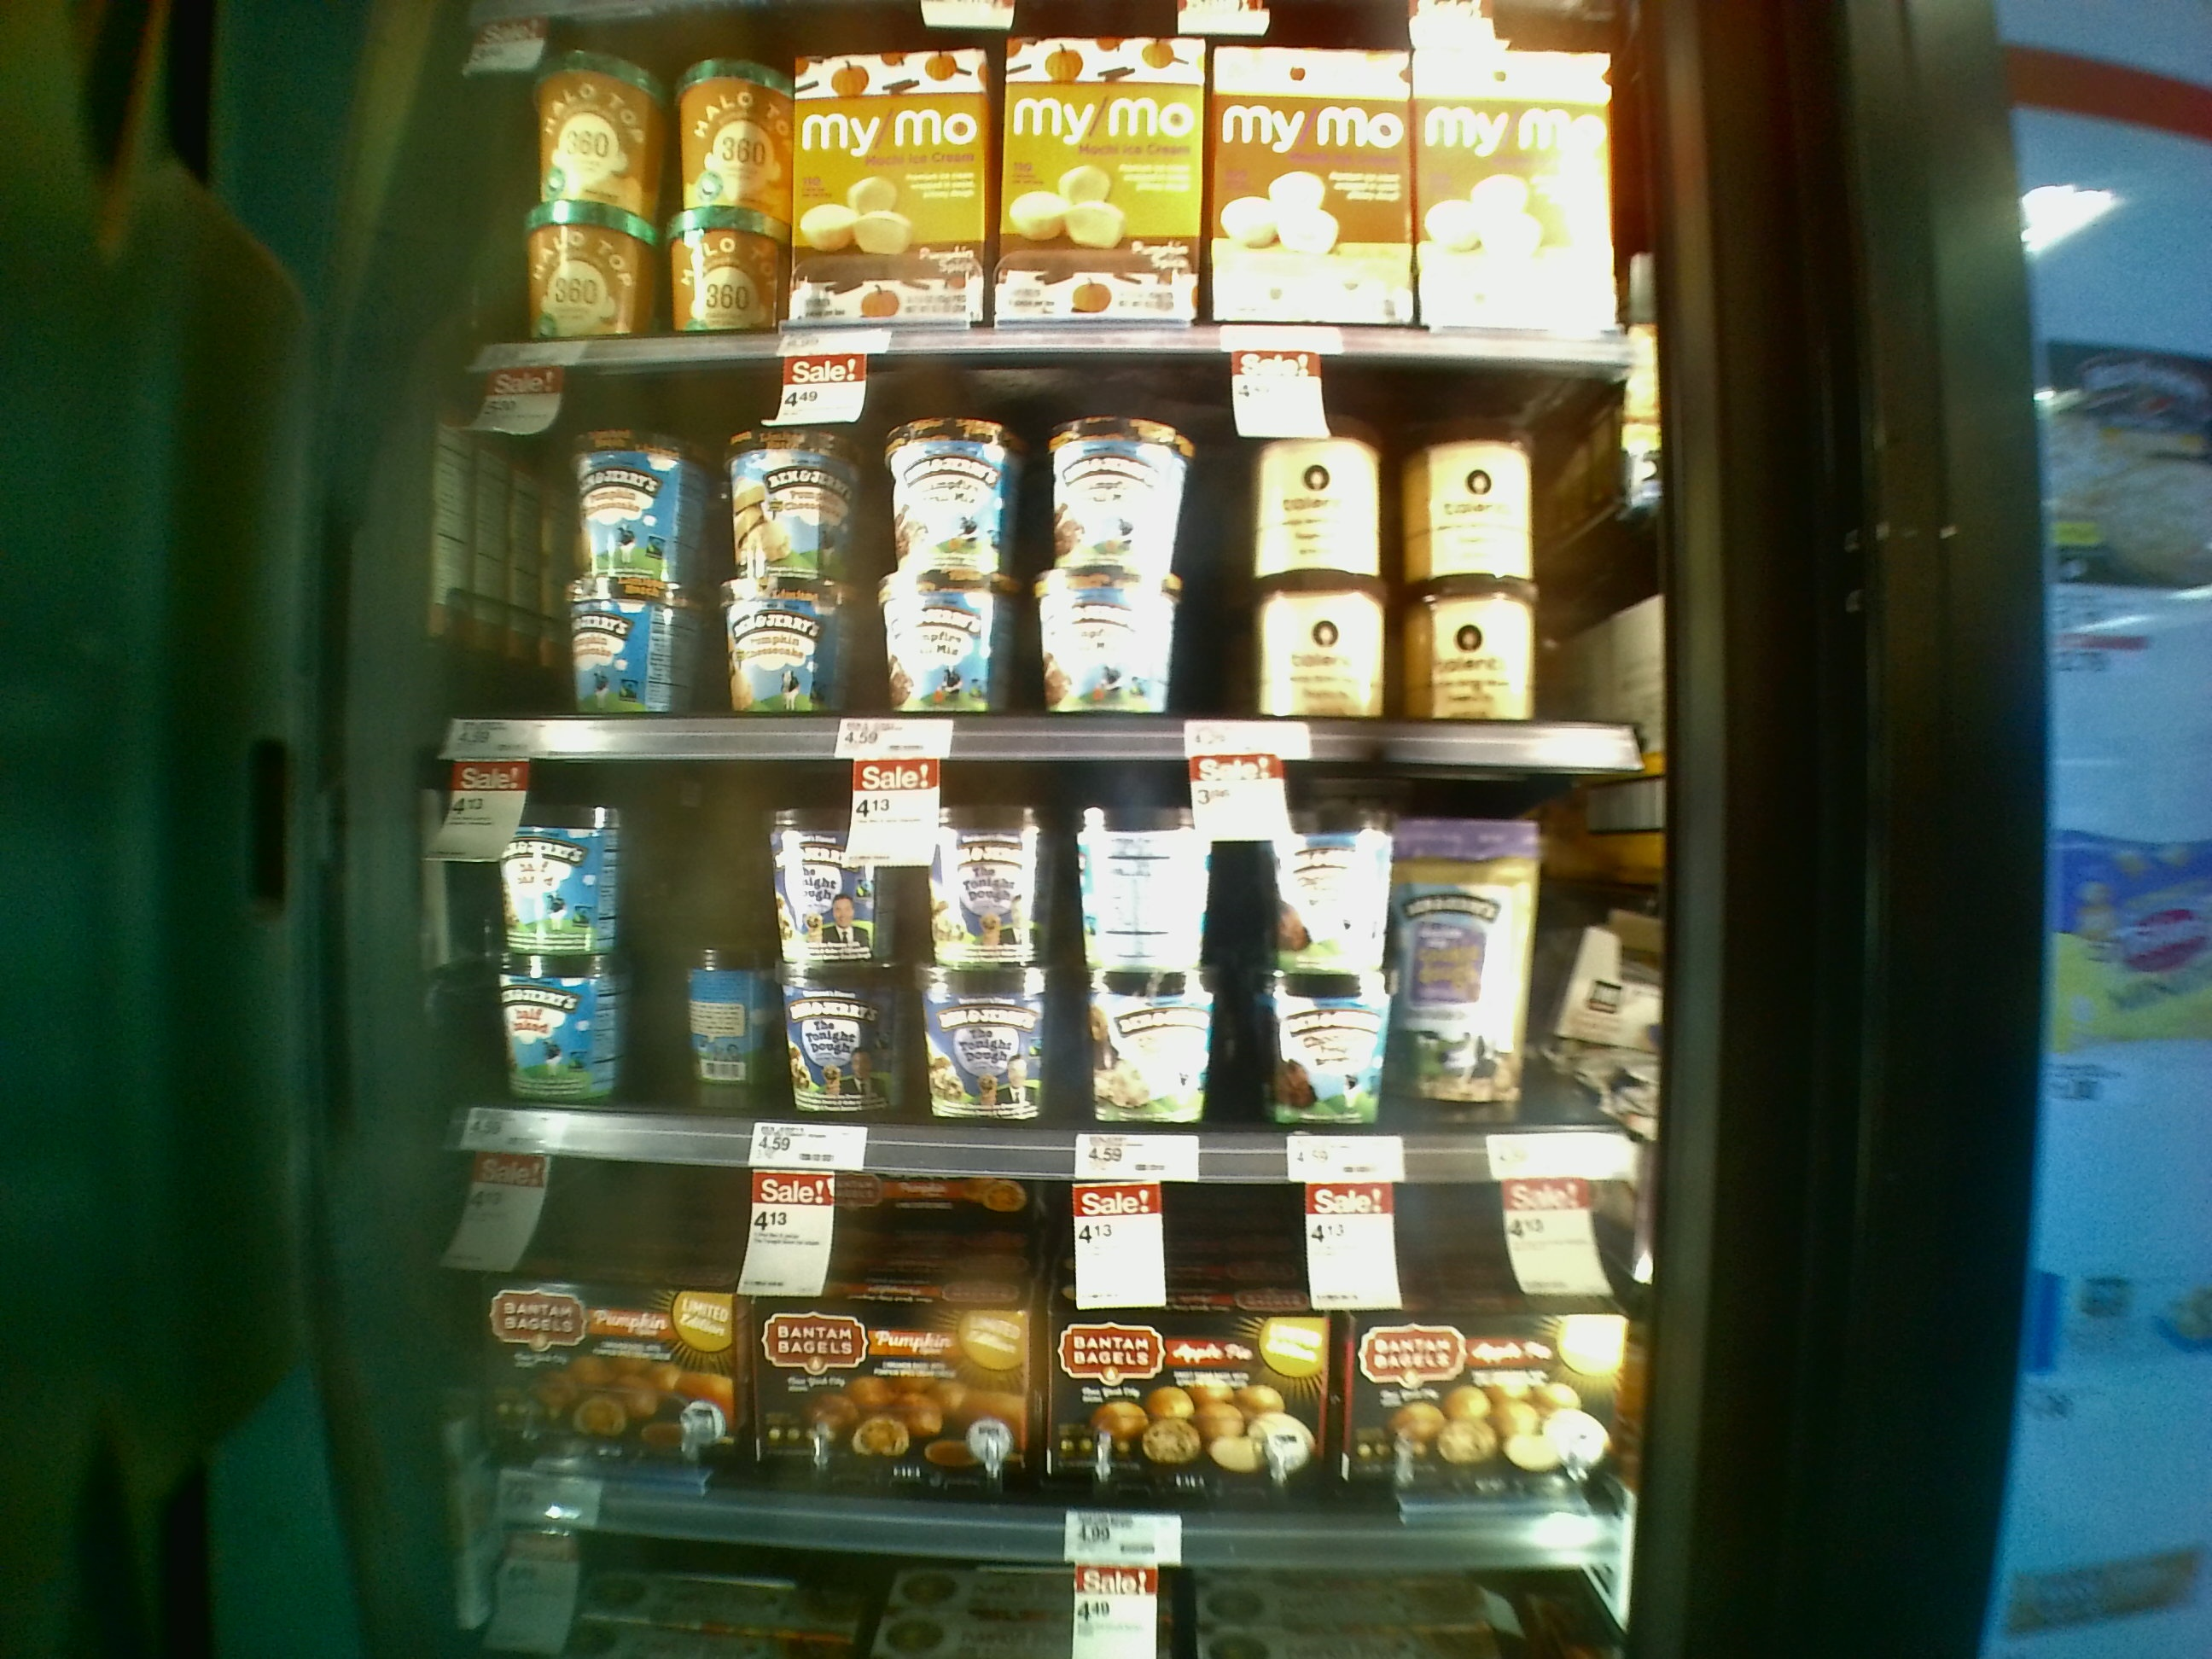shelf: (397, 763, 1662, 1187), (392, 1143, 1635, 1572), (423, 359, 1663, 786)
